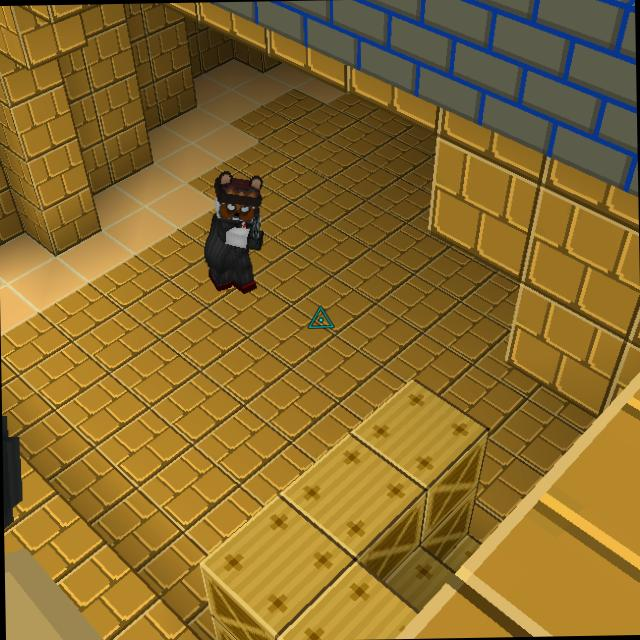enemy: (201, 169, 267, 294)
